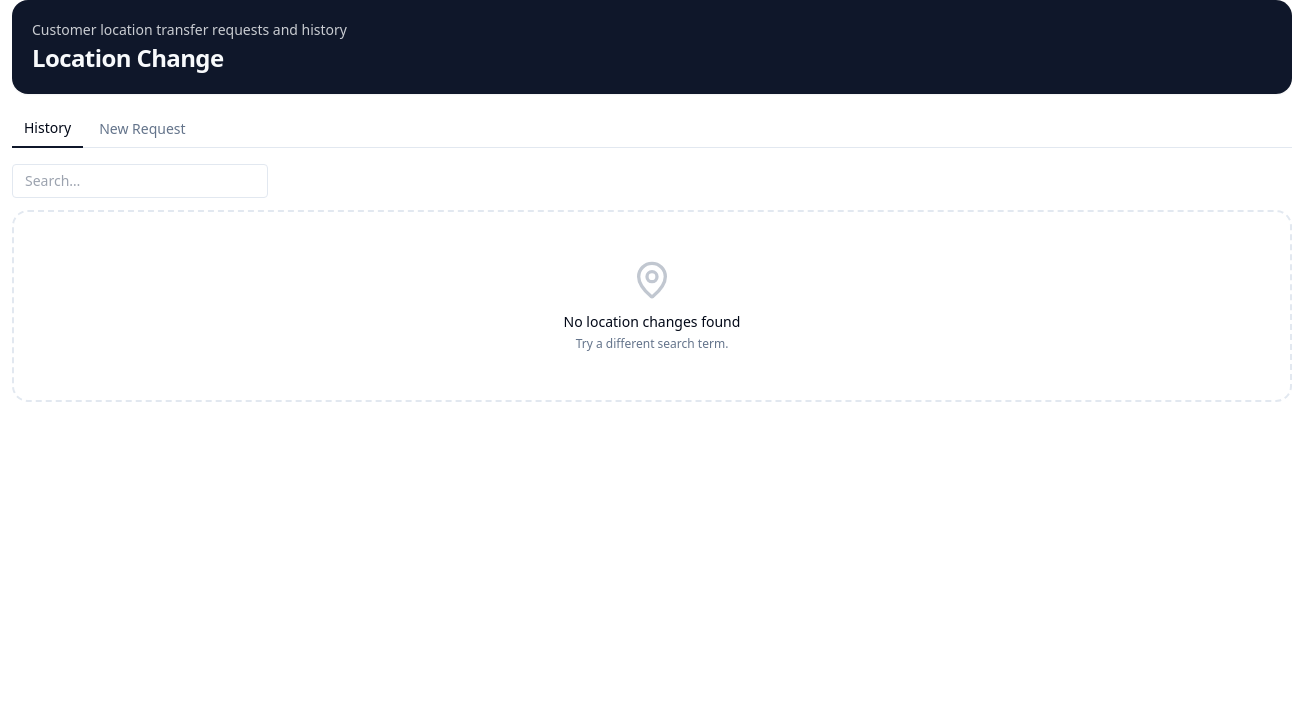
Test: LocationChangePage › New Request tab click reveals form and Submit button
Step 1. Click the tab "New Request" → (142, 129), box [87,110,198,148]
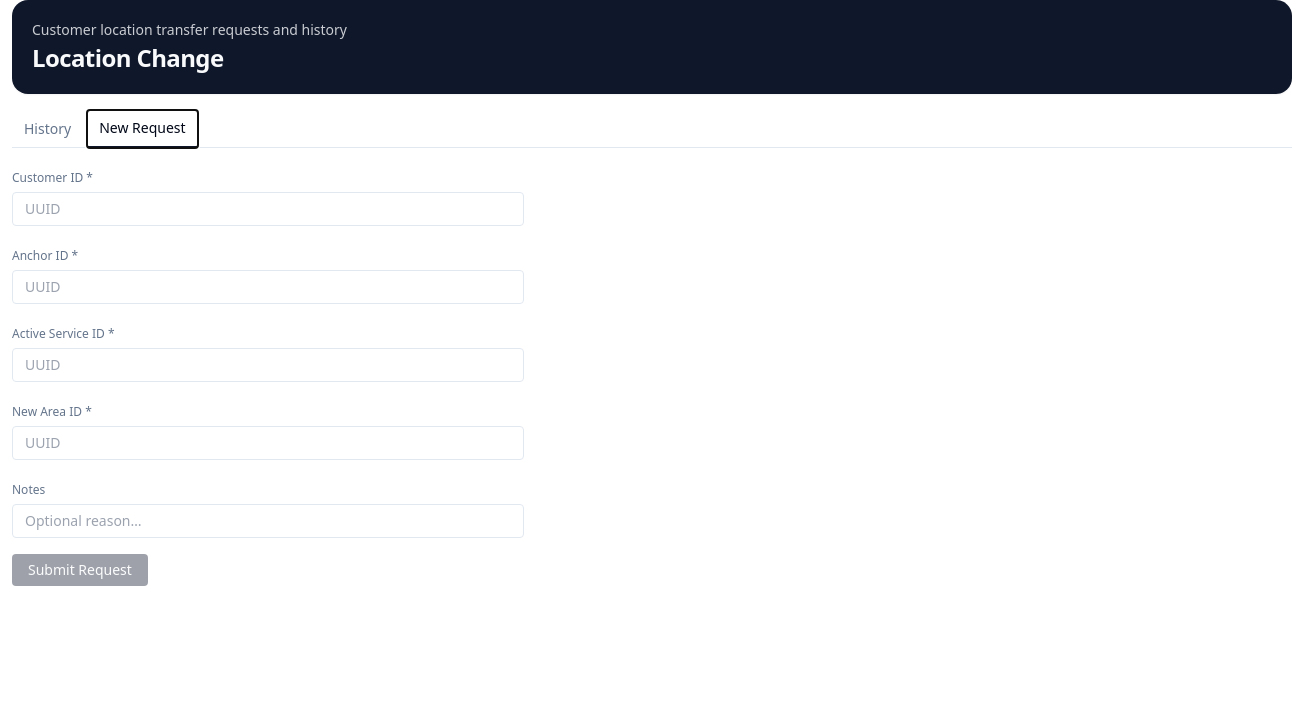
Expected: the number of fields with placeholder "UUID" is 4, [12,192,524,226]; [12,270,524,304]; [12,348,524,382]; [12,426,524,460]
Expected: the field with placeholder "Optional reason…" is shown, [12,504,524,538]
Expected: the button "Submit Request" is shown, [12,554,148,586]
